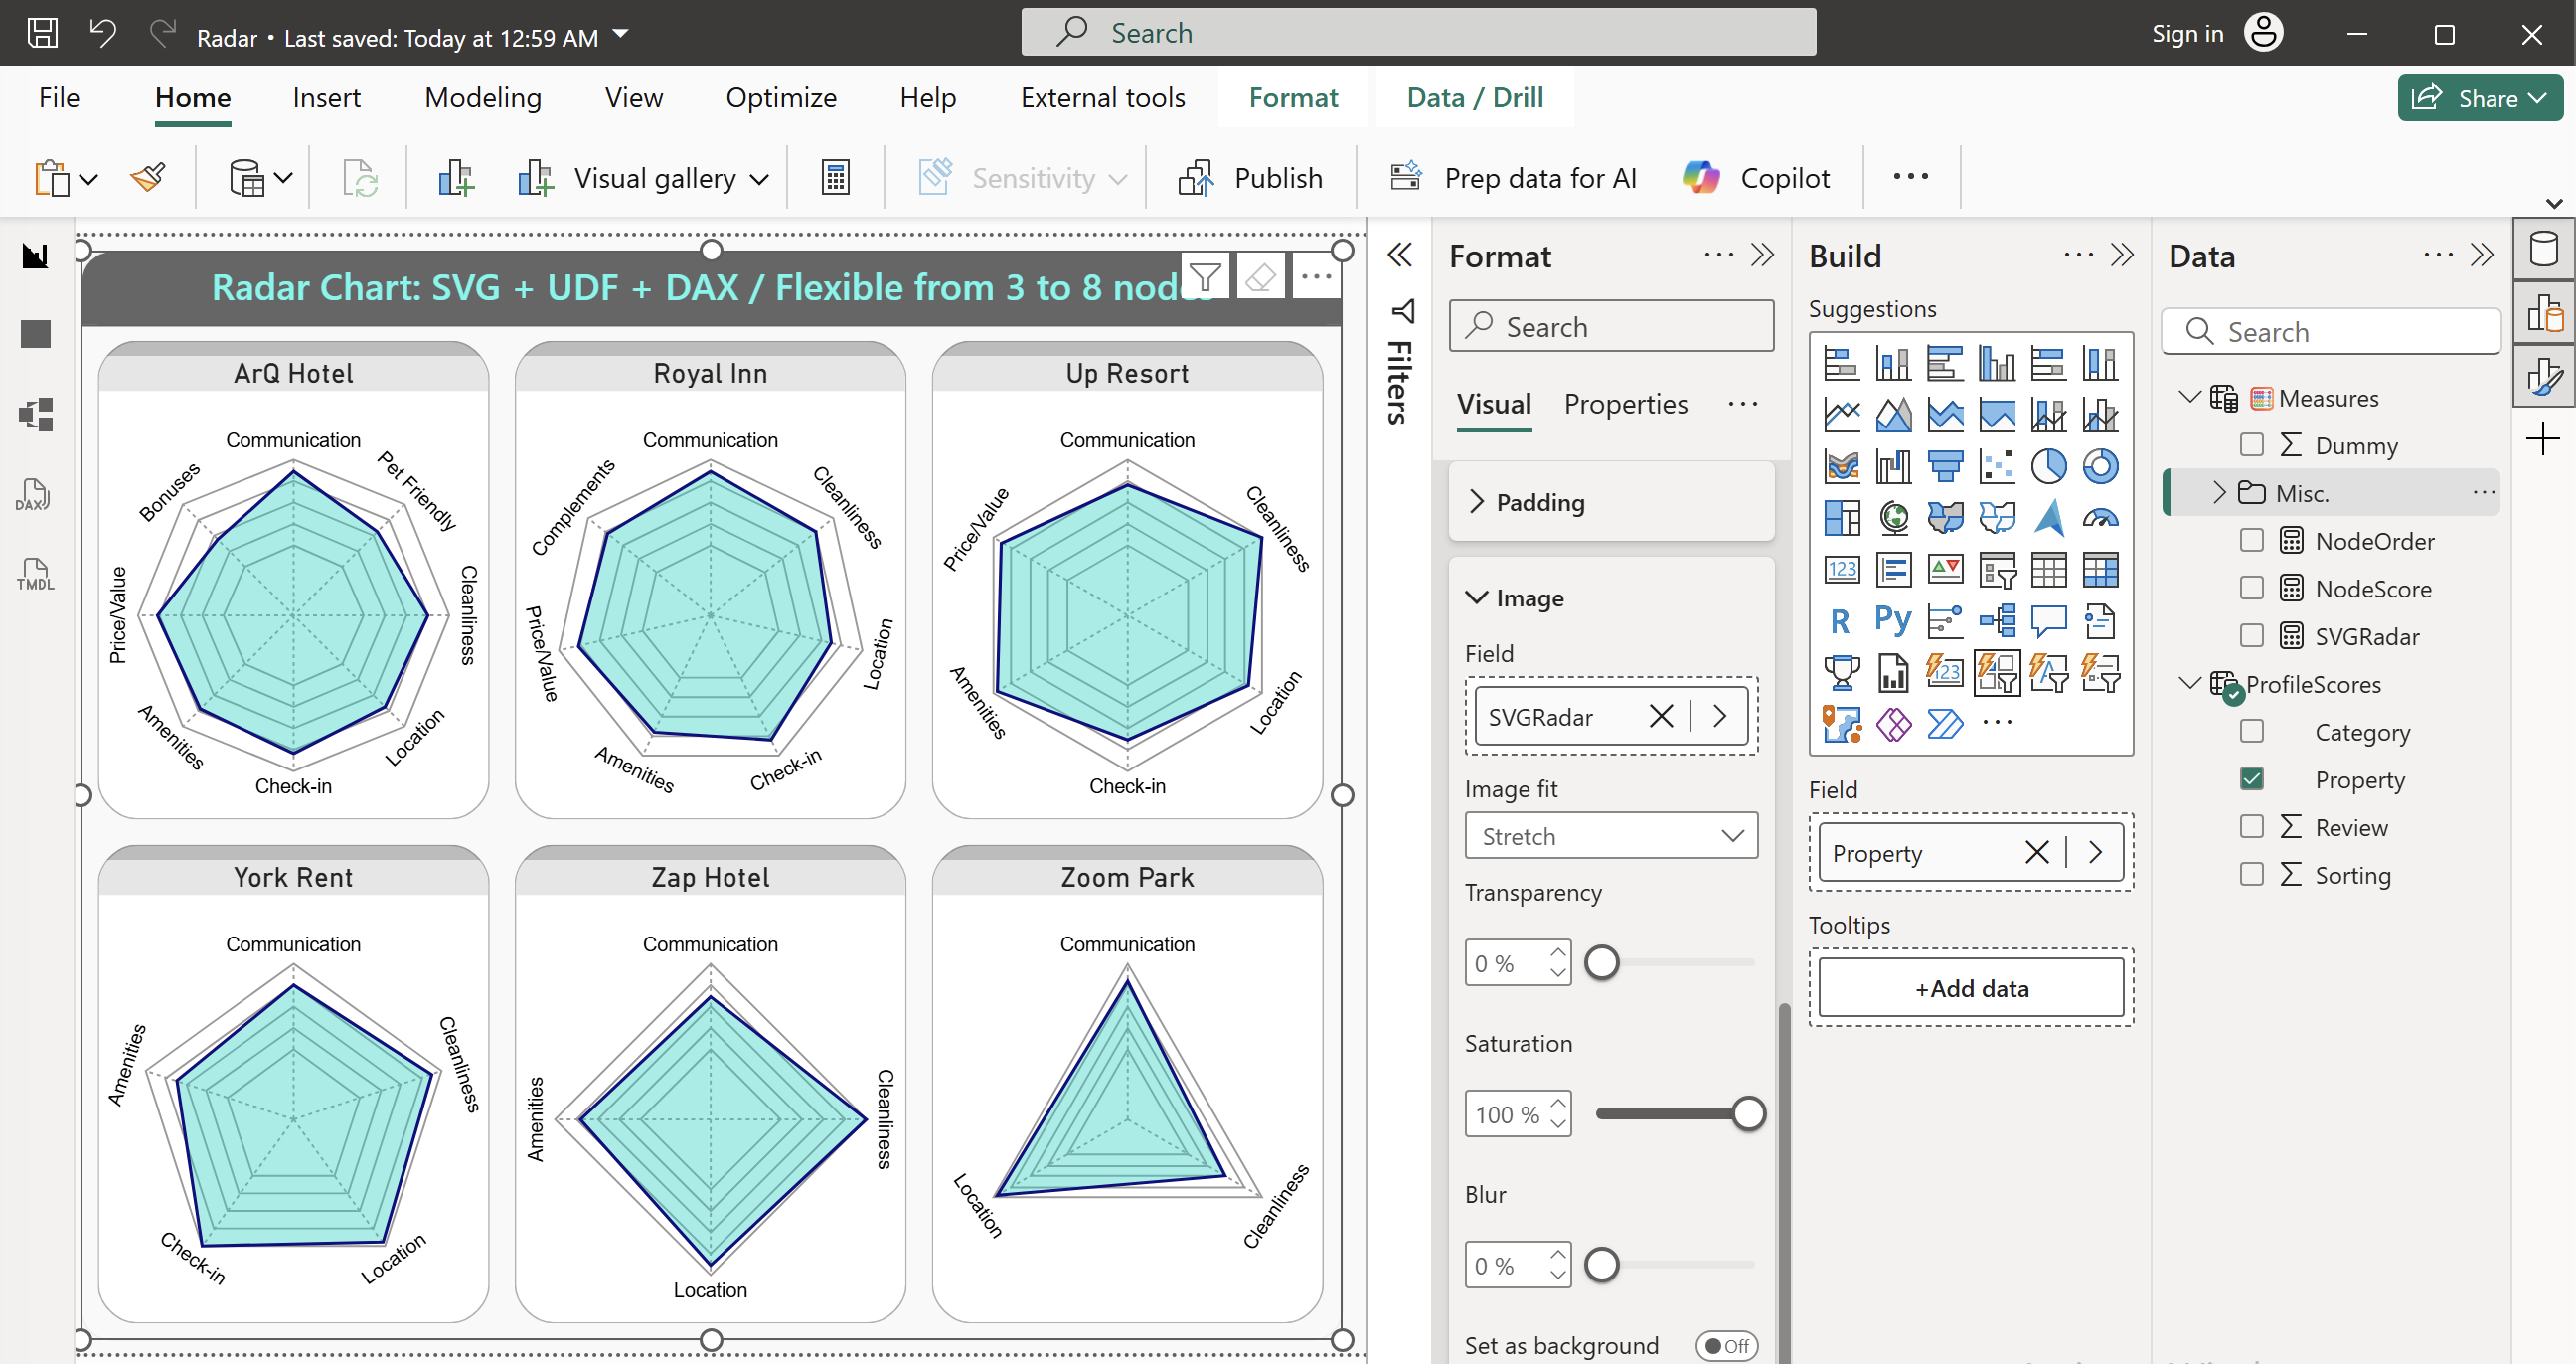

The dashboard page shown, as its layout file describes it:
{"tool":"powerbi","page":{"name":"Page 1","canvas":[1280,720],"ordinal":0},"visuals":[{"type":"advancedSlicerVisual","title":"Radar Chart: SVG + UDF + DAX / Flexible from 3 to 8 nodes","fields":{"Values":["ProfileScores.Property"]},"box":[100.9,8.9,814.3,703],"z":1000}]}

Visuals, with their boxes on the page's 1280x720 design canvas (x1, y1, x2, y2). These are canvas units, not pixel positions in the 2576x1364 screenshot, which may show the page scaled, cropped or inside an application window:
"Radar Chart: SVG + UDF + DAX / Flexible from 3 to 8 nodes" advancedSlicerVisual: (101, 9, 915, 712)
